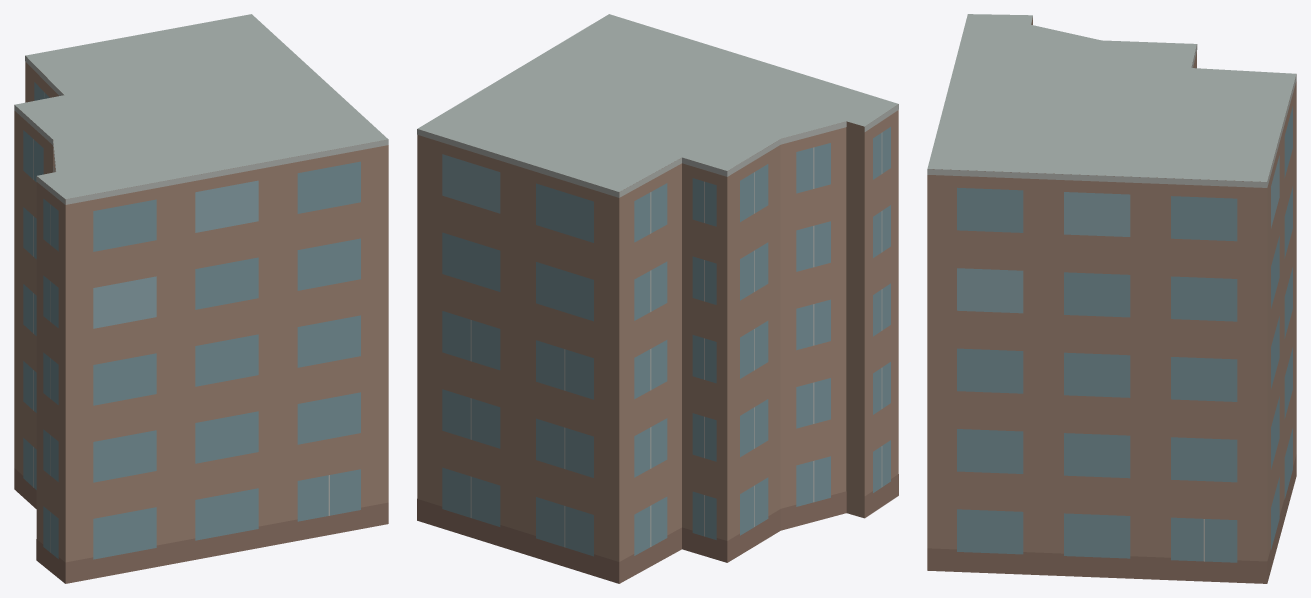
File: survey-upis-32879780.glb
The picture shows the model from 3 angles, left to right: view 1: azimuth 30°, elevation 25°; view 2: azimuth 150°, elevation 25°; view 3: azimuth 270°, elevation 25°; orthographic projection. The views are drawn at different scales.
Visible parts, largest first — view 1: survey-upis-32879780.tmp; view 2: survey-upis-32879780.tmp; view 3: survey-upis-32879780.tmp.
Part boxes in pixels (x1=…): survey-upis-32879780.tmp: x1=14, y1=14, x2=388, y2=583; survey-upis-32879780.tmp: x1=417, y1=14, x2=898, y2=583; survey-upis-32879780.tmp: x1=927, y1=14, x2=1296, y2=583.
Bounding box in the file's own units: 14.72 × 16.4 × 13.67.
